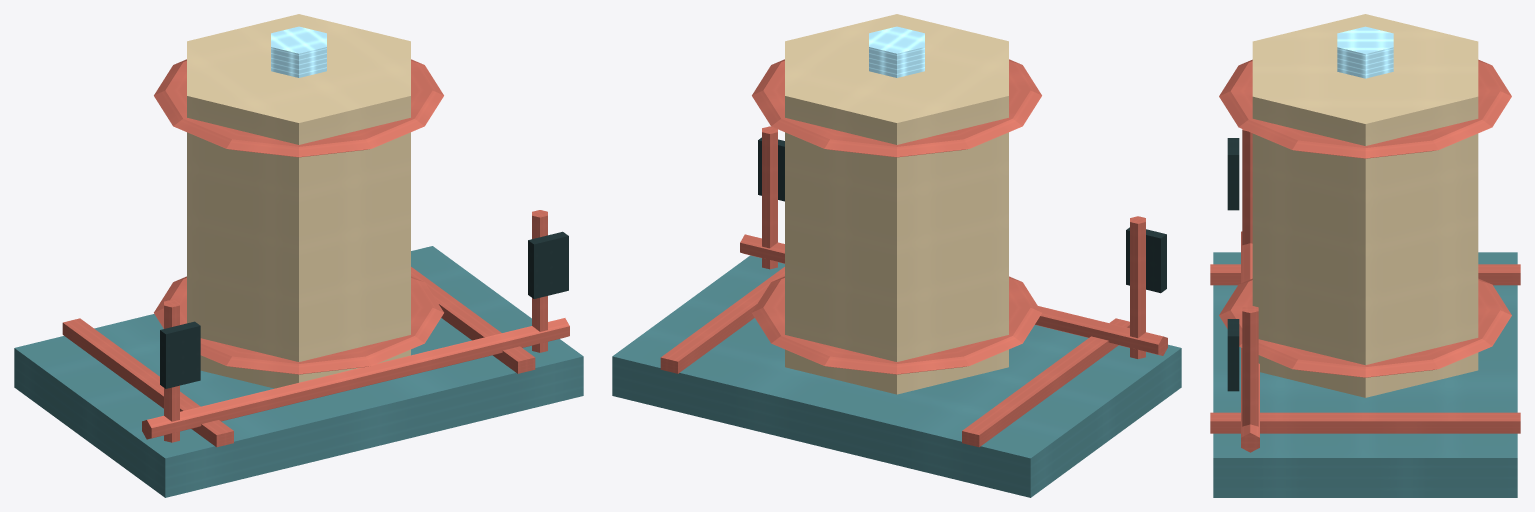
The model's file is atlas100-s074-a04.lod2.glb.
3 renders of one model, left to right at view 1: azimuth 30°, elevation 25°; view 2: azimuth 150°, elevation 25°; view 3: azimuth 270°, elevation 25°, orthographic.
Visible parts, largest first — view 1: atlas100-s074-a04:part-003, atlas100-s074-a04:part-000, atlas100-s074-a04:part-011, atlas100-s074-a04:part-005, atlas100-s074-a04:part-004, atlas100-s074-a04:part-001, atlas100-s074-a04:part-006, atlas100-s074-a04:part-008, atlas100-s074-a04:part-010, atlas100-s074-a04:part-002, atlas100-s074-a04:part-007, atlas100-s074-a04:part-009; view 2: atlas100-s074-a04:part-003, atlas100-s074-a04:part-000, atlas100-s074-a04:part-005, atlas100-s074-a04:part-004, atlas100-s074-a04:part-001, atlas100-s074-a04:part-011, atlas100-s074-a04:part-002, atlas100-s074-a04:part-006, atlas100-s074-a04:part-007, atlas100-s074-a04:part-009, atlas100-s074-a04:part-008, atlas100-s074-a04:part-010; view 3: atlas100-s074-a04:part-003, atlas100-s074-a04:part-000, atlas100-s074-a04:part-005, atlas100-s074-a04:part-004, atlas100-s074-a04:part-002, atlas100-s074-a04:part-006, atlas100-s074-a04:part-009, atlas100-s074-a04:part-001, atlas100-s074-a04:part-007, atlas100-s074-a04:part-011, atlas100-s074-a04:part-008, atlas100-s074-a04:part-010.
Boxes of the visible parts, x1,y1,x2,y2 form: atlas100-s074-a04:part-003: [187, 14, 410, 388]; atlas100-s074-a04:part-000: [14, 246, 583, 497]; atlas100-s074-a04:part-011: [142, 318, 569, 439]; atlas100-s074-a04:part-005: [154, 59, 443, 157]; atlas100-s074-a04:part-004: [154, 276, 443, 374]; atlas100-s074-a04:part-001: [62, 318, 233, 447]; atlas100-s074-a04:part-006: [271, 26, 326, 77]; atlas100-s074-a04:part-008: [160, 321, 200, 388]; atlas100-s074-a04:part-010: [528, 231, 568, 298]; atlas100-s074-a04:part-002: [411, 267, 535, 373]; atlas100-s074-a04:part-007: [164, 299, 179, 442]; atlas100-s074-a04:part-009: [532, 210, 547, 352]; atlas100-s074-a04:part-003: [785, 14, 1008, 394]; atlas100-s074-a04:part-000: [612, 255, 1181, 497]; atlas100-s074-a04:part-005: [752, 59, 1041, 157]; atlas100-s074-a04:part-004: [752, 276, 1041, 374]; atlas100-s074-a04:part-001: [962, 318, 1129, 447]; atlas100-s074-a04:part-011: [740, 234, 1167, 355]; atlas100-s074-a04:part-002: [660, 267, 784, 373]; atlas100-s074-a04:part-006: [869, 26, 924, 77]; atlas100-s074-a04:part-007: [1130, 216, 1145, 358]; atlas100-s074-a04:part-009: [762, 126, 777, 269]; atlas100-s074-a04:part-008: [1126, 227, 1166, 293]; atlas100-s074-a04:part-010: [758, 137, 784, 201]; atlas100-s074-a04:part-003: [1252, 14, 1478, 397]; atlas100-s074-a04:part-000: [1213, 252, 1517, 497]; atlas100-s074-a04:part-005: [1219, 59, 1511, 158]; atlas100-s074-a04:part-004: [1219, 278, 1511, 377]; atlas100-s074-a04:part-002: [1210, 412, 1520, 433]; atlas100-s074-a04:part-006: [1337, 26, 1393, 78]; atlas100-s074-a04:part-009: [1242, 305, 1258, 426]; atlas100-s074-a04:part-001: [1210, 264, 1520, 285]; atlas100-s074-a04:part-007: [1242, 129, 1252, 245]; atlas100-s074-a04:part-011: [1241, 231, 1259, 452]; atlas100-s074-a04:part-008: [1227, 138, 1239, 210]; atlas100-s074-a04:part-010: [1227, 319, 1239, 391].
Bounding box in the file's own units: 2.88 × 2.31 × 1.84.
5 materials, 5 textured.
